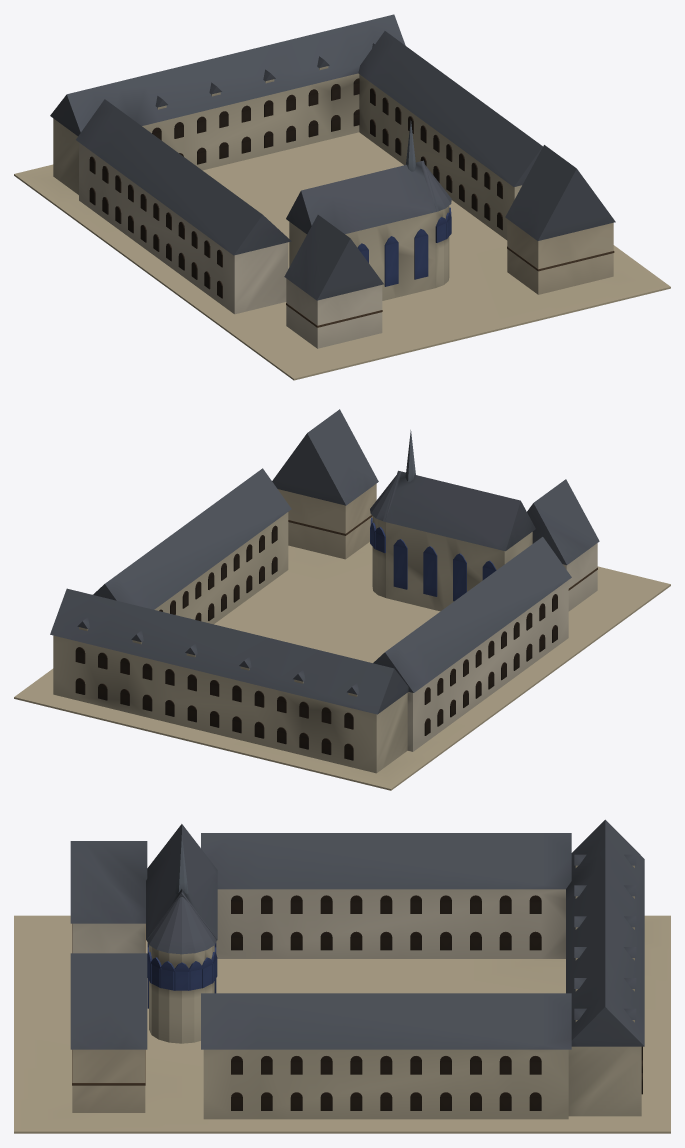
File: sorbonne-college.glb
3 renders of one model, top to bottom at view 1: azimuth 30°, elevation 25°; view 2: azimuth 150°, elevation 25°; view 3: azimuth 270°, elevation 25°, orthographic. The views are drawn at different scales.
Parts seen in each view (by area): view 1: p0_college, p1_chapel; view 2: p0_college, p1_chapel; view 3: p0_college, p1_chapel.
Boxes of the visible parts, left/top/right/bottom form: p0_college: left=14, top=14, right=670, bottom=380; p1_chapel: left=286, top=120, right=451, bottom=300; p0_college: left=14, top=409, right=670, bottom=790; p1_chapel: left=370, top=430, right=535, bottom=611; p0_college: left=14, top=819, right=670, bottom=1133; p1_chapel: left=146, top=824, right=217, bottom=1043.
Bounding box in the file's own units: 70 × 29 × 90.
